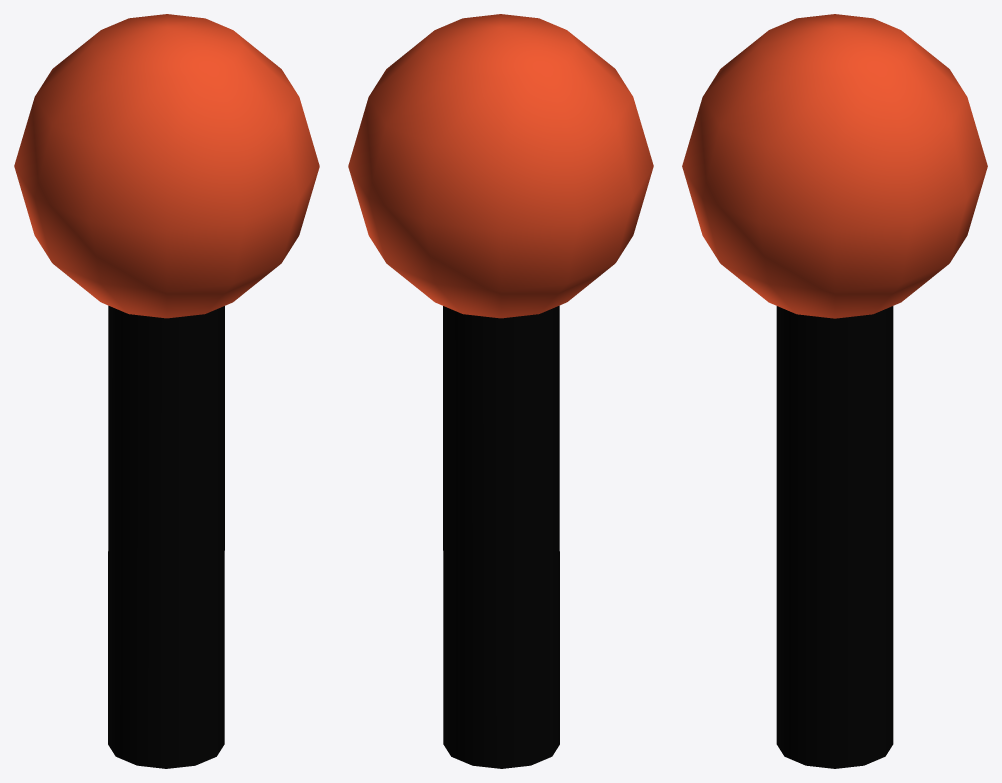
Rendered from Joystick01.fbx.
3 views of the same model, side by side, from view 1: azimuth 30°, elevation 25°; view 2: azimuth 150°, elevation 25°; view 3: azimuth 270°, elevation 25° (orthographic).
Parts seen in each view (by area): view 1: pCylinder28; view 2: pCylinder28; view 3: pCylinder28.
Boxes of the visible parts, x1=… form: pCylinder28: x1=14, y1=14, x2=319, y2=768; pCylinder28: x1=348, y1=14, x2=653, y2=768; pCylinder28: x1=682, y1=14, x2=987, y2=768.
Size of the model in its own units: 0.0428 by 0.1107 by 0.0428.
1 material, 1 textured.
